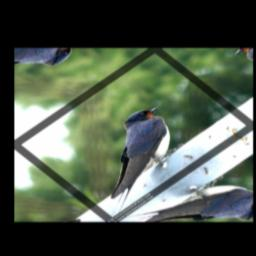Swallow: (53, 101, 215, 218)
